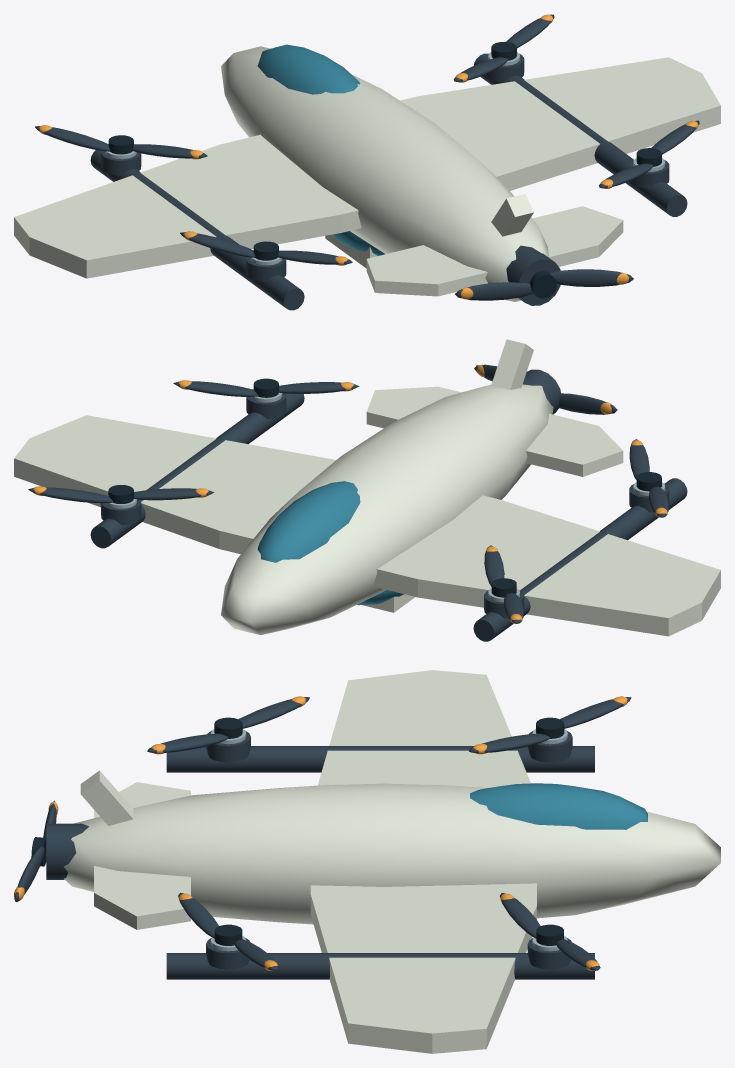
The model's file is zipline-platform-2.glb.
3 renders of one model, top to bottom at view 1: azimuth 30°, elevation 25°; view 2: azimuth 150°, elevation 25°; view 3: azimuth 270°, elevation 25°, orthographic. The views are drawn at different scales.
Parts seen in each view (by area): view 1: part-wing-2, part-frame-1, part-propeller-12, part-propeller-4, part-propeller-8, part-propeller-6, part-propeller-10, part-motor-11, part-payload-13, part-motor-7, part-motor-3, part-motor-9 (+1 smaller); view 2: part-wing-2, part-frame-1, part-propeller-6, part-propeller-10, part-propeller-8, part-propeller-4, part-propeller-12, part-motor-5, part-motor-9, part-motor-11, part-payload-13, part-motor-3 (+1 smaller); view 3: part-frame-1, part-wing-2, part-propeller-8, part-propeller-4, part-propeller-10, part-propeller-6, part-motor-11, part-propeller-12, part-motor-3, part-motor-7, part-motor-5, part-motor-9.
Part boxes in pixels (x1,y1,x2,y2): part-wing-2: (14,57,720,296); part-frame-1: (90,44,687,310); part-propeller-12: (455,269,633,300); part-propeller-4: (35,125,207,159); part-propeller-8: (180,231,352,265); part-propeller-6: (453,14,554,82); part-propeller-10: (599,120,699,188); part-motor-11: (506,245,560,305); part-payload-13: (325,231,384,268); part-motor-7: (246,257,286,281); part-motor-3: (101,151,141,175); part-motor-9: (629,158,669,188); part-wing-2: (14,339,720,636); part-frame-1: (90,384,687,641); part-propeller-6: (28,485,214,503); part-propeller-10: (173,378,359,397); part-propeller-8: (629,439,668,517); part-propeller-4: (484,545,523,623); part-propeller-12: (474,364,617,414); part-motor-5: (101,495,141,525); part-motor-9: (246,389,286,418); part-motor-11: (523,369,560,414); part-payload-13: (357,590,414,612); part-motor-3: (484,588,524,618); part-frame-1: (64,746,720,979); part-wing-2: (80,670,536,1053); part-propeller-8: (147,696,309,754); part-propeller-4: (469,696,631,754); part-propeller-10: (178,892,278,970); part-propeller-6: (500,893,600,970); part-motor-11: (46,823,88,879); part-propeller-12: (14,800,58,902); part-motor-3: (527,729,572,762); part-motor-7: (206,729,250,762); part-motor-5: (527,936,571,969); part-motor-9: (206,936,249,969).
Bounding box in the file's own units: 4.6 × 0.9805 × 3.78.
